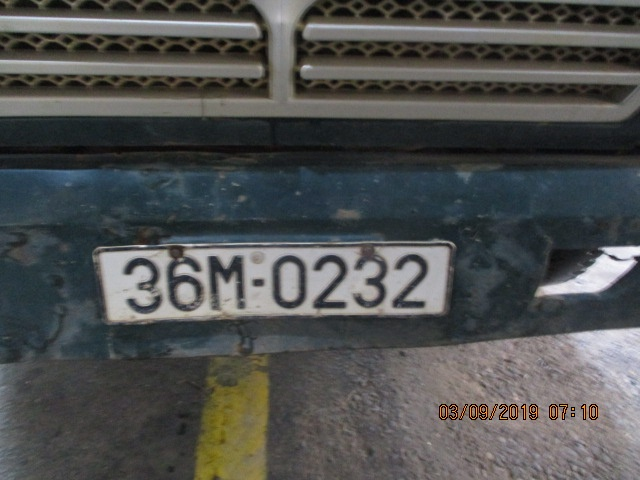number_plate: (112, 254, 432, 312)
